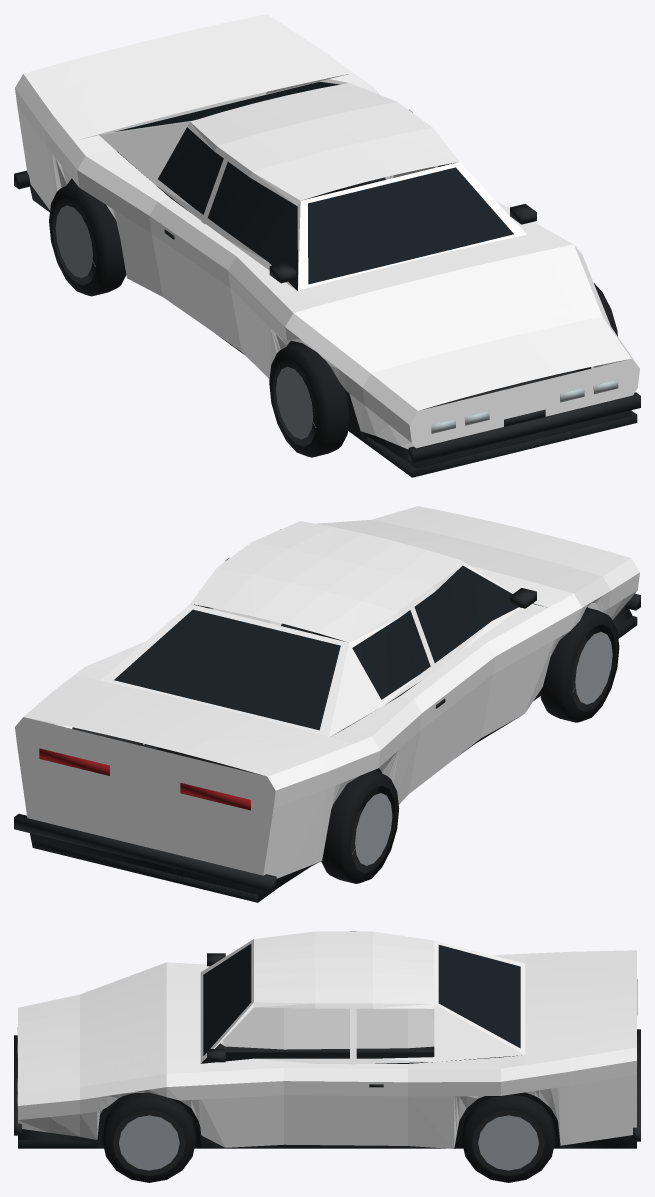
The model's file is hayase_arpao.glb.
3 renders of one model, top to bottom at view 1: azimuth 30°, elevation 25°; view 2: azimuth 150°, elevation 25°; view 3: azimuth 270°, elevation 25°, orthographic. The views are drawn at different scales.
Visible parts, largest first — view 1: Body_Paint, Body_Details, Mount_FrontLeft_Wheel_Details, Mount_RearLeft_Wheel_Details; view 2: Body_Paint, Body_Details, Mount_RearLeft_Wheel_Details, Mount_FrontLeft_Wheel_Details; view 3: Body_Paint, Body_Details, Mount_FrontRight_Wheel_Details, Mount_RearRight_Wheel_Details.
Boxes of the visible parts, bbox=[...] form: Body_Paint: bbox=[15, 14, 639, 449]; Body_Details: bbox=[14, 81, 640, 477]; Mount_FrontLeft_Wheel_Details: bbox=[269, 343, 349, 457]; Mount_RearLeft_Wheel_Details: bbox=[49, 183, 126, 296]; Body_Paint: bbox=[15, 506, 639, 878]; Body_Details: bbox=[14, 529, 640, 902]; Mount_RearLeft_Wheel_Details: bbox=[321, 770, 399, 883]; Mount_FrontLeft_Wheel_Details: bbox=[540, 607, 619, 722]; Body_Paint: bbox=[18, 931, 636, 1148]; Body_Details: bbox=[14, 944, 640, 1148]; Mount_FrontRight_Wheel_Details: bbox=[102, 1092, 196, 1182]; Mount_RearRight_Wheel_Details: bbox=[461, 1095, 555, 1182].
Size of the model in its own units: 1.98 by 1.23 by 4.34.
2 materials, 1 textured.
